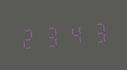four: (62, 20, 83, 48)
three: (40, 22, 61, 50), (84, 18, 105, 46)
two: (18, 23, 39, 52)
